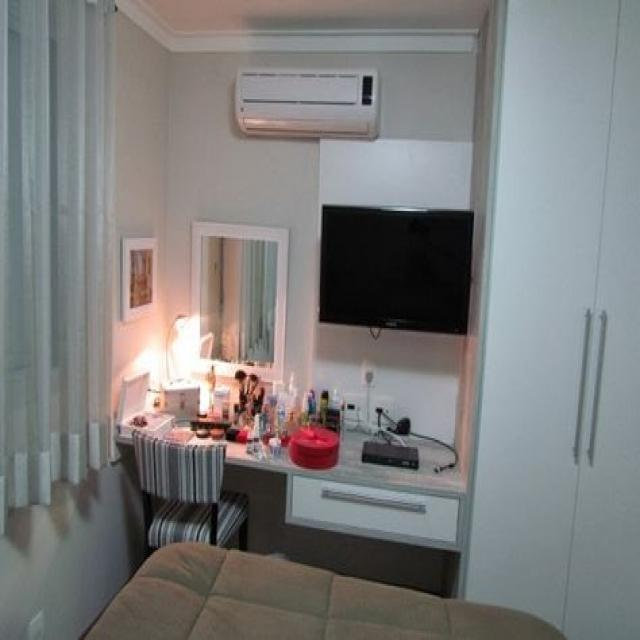AC: (233, 66, 380, 138)
AIO PC-Monitor-TV: (317, 203, 475, 334)
Kursi: (129, 429, 249, 557)
Lemari: (458, 0, 639, 639)
